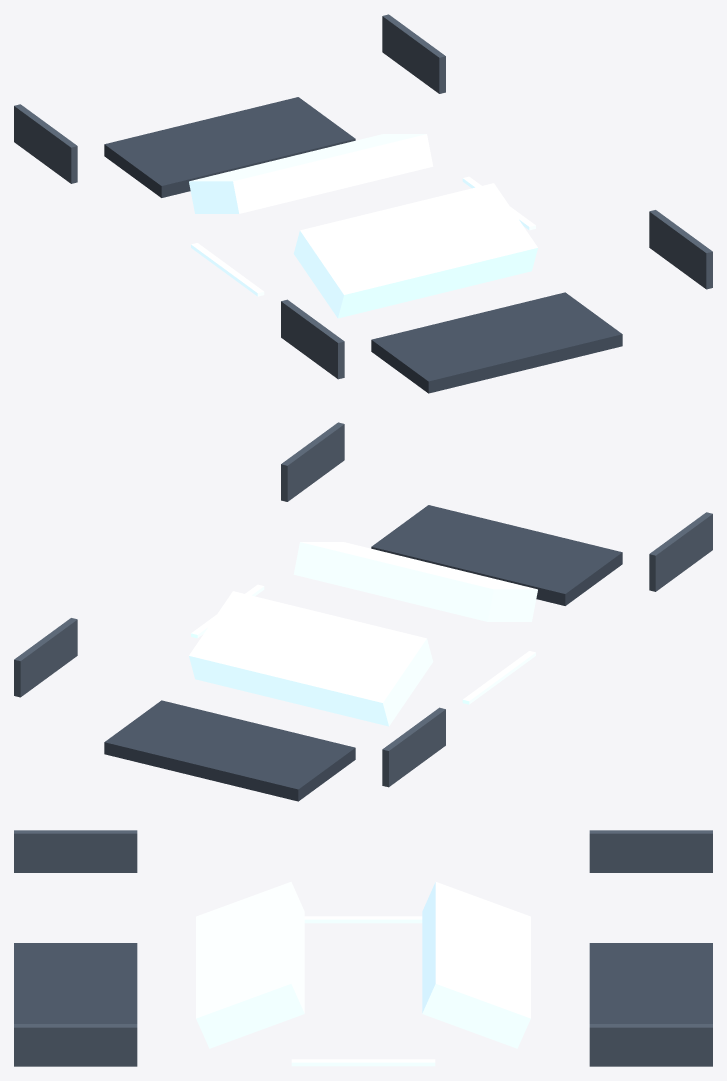
Rendered from track_jump.glb.
The picture shows the model from 3 angles, top to bottom: view 1: azimuth 30°, elevation 25°; view 2: azimuth 150°, elevation 25°; view 3: azimuth 270°, elevation 25°; orthographic projection. The views are drawn at different scales.
Parts seen in each view (by area): view 1: Track_Jump_RampUp, Track_Jump_Approach, Track_Jump_Exit, Track_Jump_RampDown, Track_Jump_Rail_L_Front, Track_Jump_Rail_R_Back, Track_Jump_Rail_R_Front, Track_Jump_Rail_L_Back, Track_Jump_GapGlow_-1; view 2: Track_Jump_RampDown, Track_Jump_Exit, Track_Jump_Approach, Track_Jump_RampUp, Track_Jump_Rail_L_Back, Track_Jump_Rail_R_Back, Track_Jump_Rail_R_Front, Track_Jump_Rail_L_Front, Track_Jump_GapGlow_-1; view 3: Track_Jump_RampDown, Track_Jump_RampUp, Track_Jump_Approach, Track_Jump_Exit, Track_Jump_Rail_L_Back, Track_Jump_Rail_L_Front, Track_Jump_Rail_R_Back, Track_Jump_Rail_R_Front, Track_Jump, Track_Jump_GapGlow_-1.
Part boxes in pixels (box(x1,y1,x2,y2)): Track_Jump_RampUp: box(293, 183, 537, 318); Track_Jump_Approach: box(371, 292, 622, 393); Track_Jump_Exit: box(104, 97, 355, 197); Track_Jump_RampDown: box(189, 134, 433, 213); Track_Jump_Rail_L_Front: box(14, 104, 77, 183); Track_Jump_Rail_R_Back: box(649, 210, 712, 289); Track_Jump_Rail_R_Front: box(382, 14, 445, 93); Track_Jump_Rail_L_Back: box(281, 299, 344, 379); Track_Jump_GapGlow_-1: box(191, 243, 264, 296); Track_Jump_RampDown: box(189, 591, 433, 726); Track_Jump_Exit: box(104, 700, 355, 801); Track_Jump_Approach: box(371, 505, 622, 605); Track_Jump_RampUp: box(293, 542, 537, 621); Track_Jump_Rail_L_Back: box(649, 512, 712, 591); Track_Jump_Rail_R_Back: box(281, 422, 344, 501); Track_Jump_Rail_R_Front: box(14, 618, 77, 697); Track_Jump_Rail_L_Front: box(382, 707, 445, 787); Track_Jump_GapGlow_-1: box(462, 651, 535, 704); Track_Jump_RampDown: box(422, 882, 530, 1048); Track_Jump_RampUp: box(196, 882, 304, 1048); Track_Jump_Approach: box(14, 943, 137, 1023); Track_Jump_Exit: box(589, 943, 712, 1023); Track_Jump_Rail_L_Back: box(14, 830, 137, 872); Track_Jump_Rail_L_Front: box(589, 830, 712, 872); Track_Jump_Rail_R_Back: box(14, 1024, 137, 1066); Track_Jump_Rail_R_Front: box(589, 1024, 712, 1066); Track_Jump: box(291, 1059, 435, 1066); Track_Jump_GapGlow_-1: box(304, 916, 422, 923).
Size of the model in its own units: 2.27 by 0.42 by 3.4.
